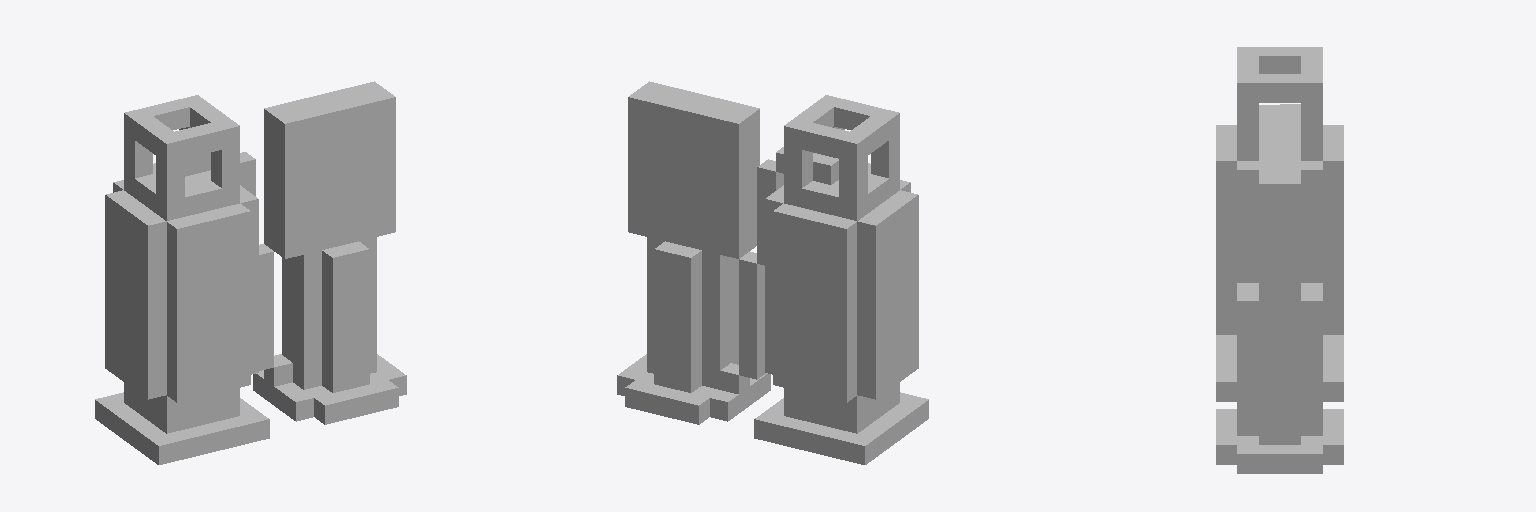
Rendered from more_appliances_hand_air_compressor.obj.
The picture shows the model from 3 angles: view 1: azimuth 30°, elevation 25°; view 2: azimuth 150°, elevation 25°; view 3: azimuth 270°, elevation 25°; orthographic projection.
Visible parts, largest first — view 1: node_0_node_0_0_0.002, node_1.006_node_0_0_0.012; view 2: node_0_node_0_0_0.002, node_1.006_node_0_0_0.012; view 3: node_0_node_0_0_0.002, node_1.006_node_0_0_0.012.
Part boxes in pixels (bbox=[...]): node_0_node_0_0_0.002: bbox=[95, 95, 406, 464]; node_1.006_node_0_0_0.012: bbox=[264, 81, 395, 258]; node_0_node_0_0_0.002: bbox=[617, 95, 928, 464]; node_1.006_node_0_0_0.012: bbox=[628, 81, 759, 258]; node_0_node_0_0_0.002: bbox=[1216, 47, 1343, 473]; node_1.006_node_0_0_0.012: bbox=[1259, 130, 1300, 318].
Size of the model in its own units: 0.875 by 1 by 0.375.